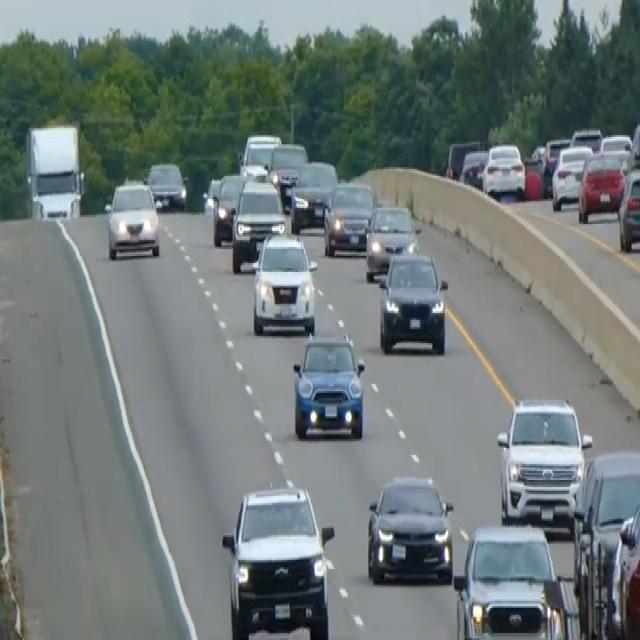car: (221, 482, 335, 638), (453, 521, 569, 638), (571, 448, 639, 638), (496, 393, 591, 528), (365, 471, 454, 585), (292, 331, 365, 441), (377, 247, 448, 356), (250, 228, 317, 336), (230, 176, 286, 272), (104, 176, 160, 260), (608, 491, 639, 638), (364, 201, 418, 281), (322, 178, 375, 256), (289, 158, 338, 233), (577, 150, 625, 222), (550, 142, 592, 210), (211, 171, 248, 245), (268, 140, 308, 207), (481, 141, 526, 199), (145, 160, 186, 212), (617, 164, 639, 252), (240, 130, 281, 172), (445, 137, 484, 181), (541, 135, 570, 194), (523, 142, 547, 198), (599, 131, 633, 169), (458, 146, 488, 188), (570, 124, 602, 153), (202, 174, 221, 210)
lorry: (23, 121, 85, 222)
